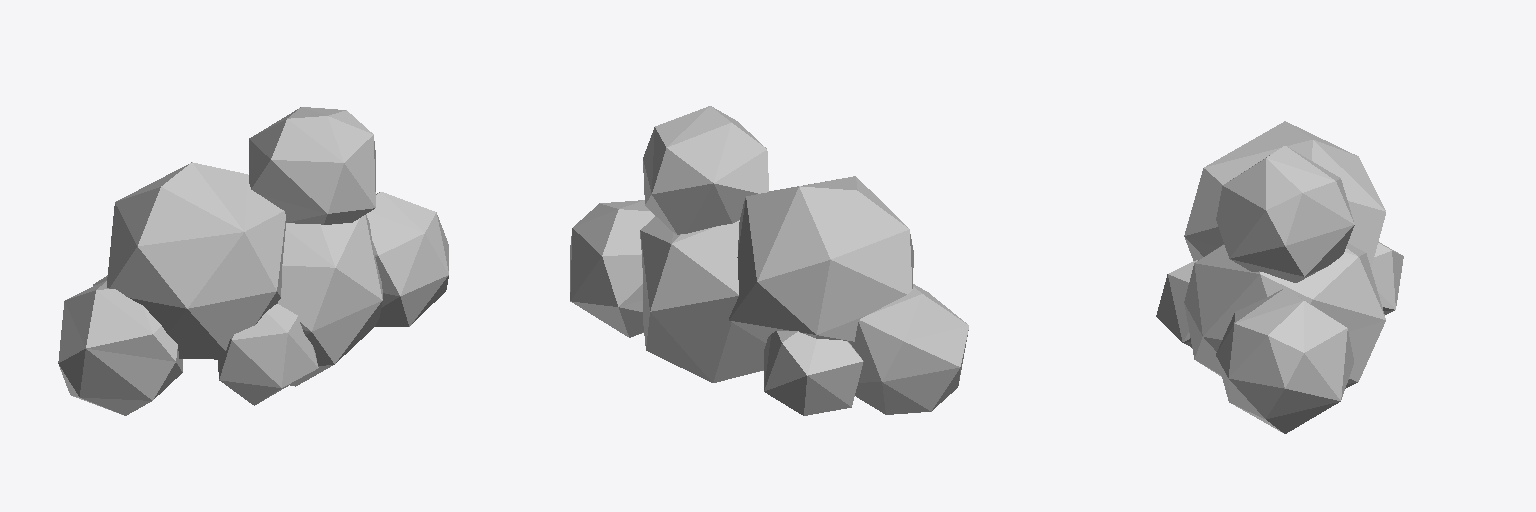
File: Cloud_3.obj
3 views of the same model, side by side, from view 1: azimuth 30°, elevation 25°; view 2: azimuth 150°, elevation 25°; view 3: azimuth 270°, elevation 25° (orthographic).
Visible parts, largest first — view 1: Cloud_3_Icosphere.042; view 2: Cloud_3_Icosphere.042; view 3: Cloud_3_Icosphere.042.
Boxes of the visible parts, x1,y1,x2,y2 form: Cloud_3_Icosphere.042: [58, 107, 448, 415]; Cloud_3_Icosphere.042: [570, 106, 968, 415]; Cloud_3_Icosphere.042: [1156, 121, 1403, 433].
Size of the model in its own units: 4.43 by 2.8 by 2.43.